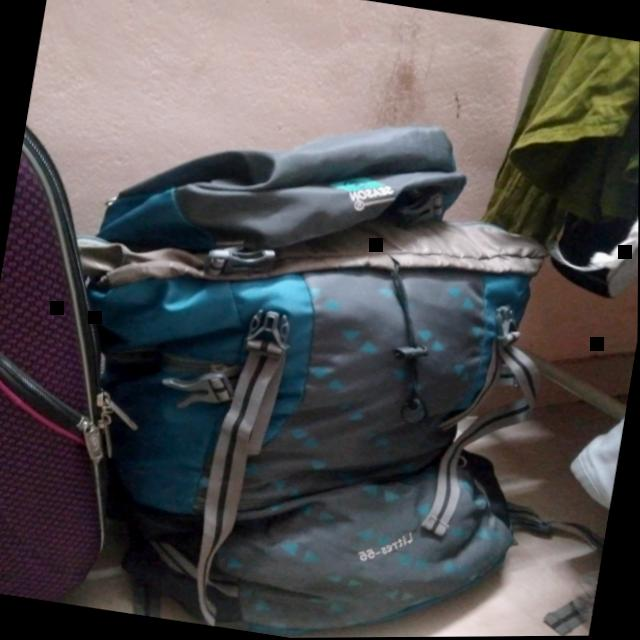luggage: (87, 127, 544, 638), (0, 127, 101, 603)
